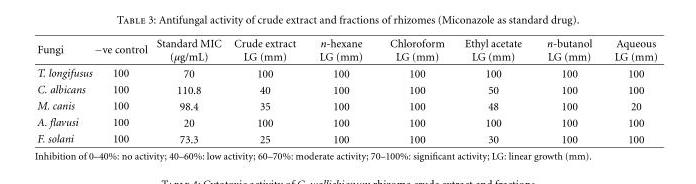table: (36, 37, 656, 145)
table column: (226, 37, 307, 145), (453, 37, 533, 145), (375, 37, 453, 145), (151, 37, 226, 145), (533, 37, 602, 145), (307, 37, 375, 145), (92, 37, 151, 145), (36, 37, 92, 145), (602, 37, 656, 145)
table column header: (36, 37, 656, 64)
table row: (36, 37, 656, 64), (36, 64, 656, 81), (36, 113, 656, 130), (36, 81, 656, 97), (36, 97, 656, 113), (36, 130, 656, 145)
